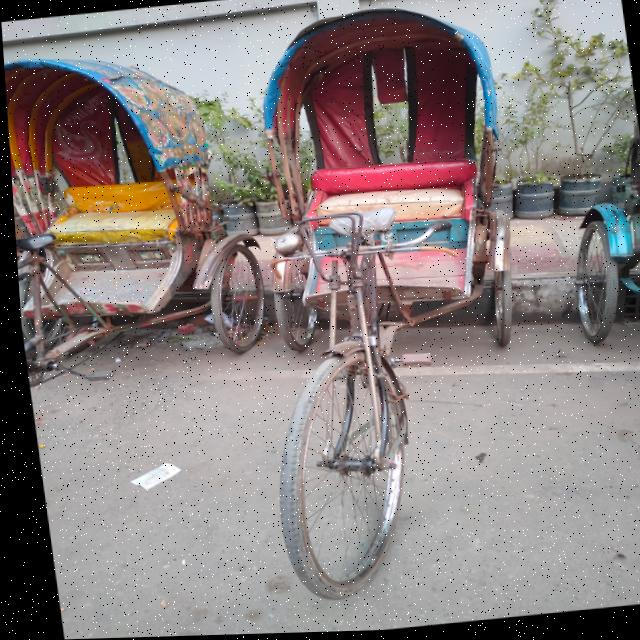rikshaw: (194, 0, 556, 635), (3, 53, 209, 412)
